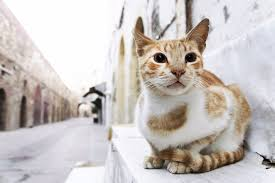cat: (125, 26, 240, 157)
